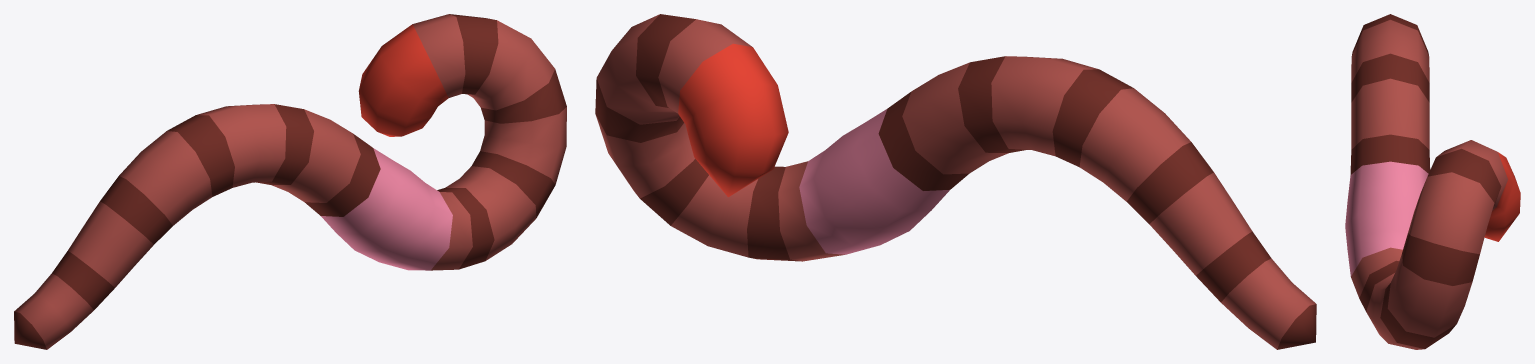
File: bait-giun.glb
3 views of the same model, side by side, from view 1: azimuth 30°, elevation 25°; view 2: azimuth 150°, elevation 25°; view 3: azimuth 270°, elevation 25° (orthographic). The views are drawn at different scales.
Visible parts, largest first — view 1: body; view 2: body; view 3: body.
Boxes of the visible parts, box(x1,y1,x2,y2) form: body: box(14, 14, 566, 349); body: box(595, 14, 1316, 349); body: box(1345, 14, 1520, 349).
Size of the model in its own units: 1 by 0.3654 by 0.287.
